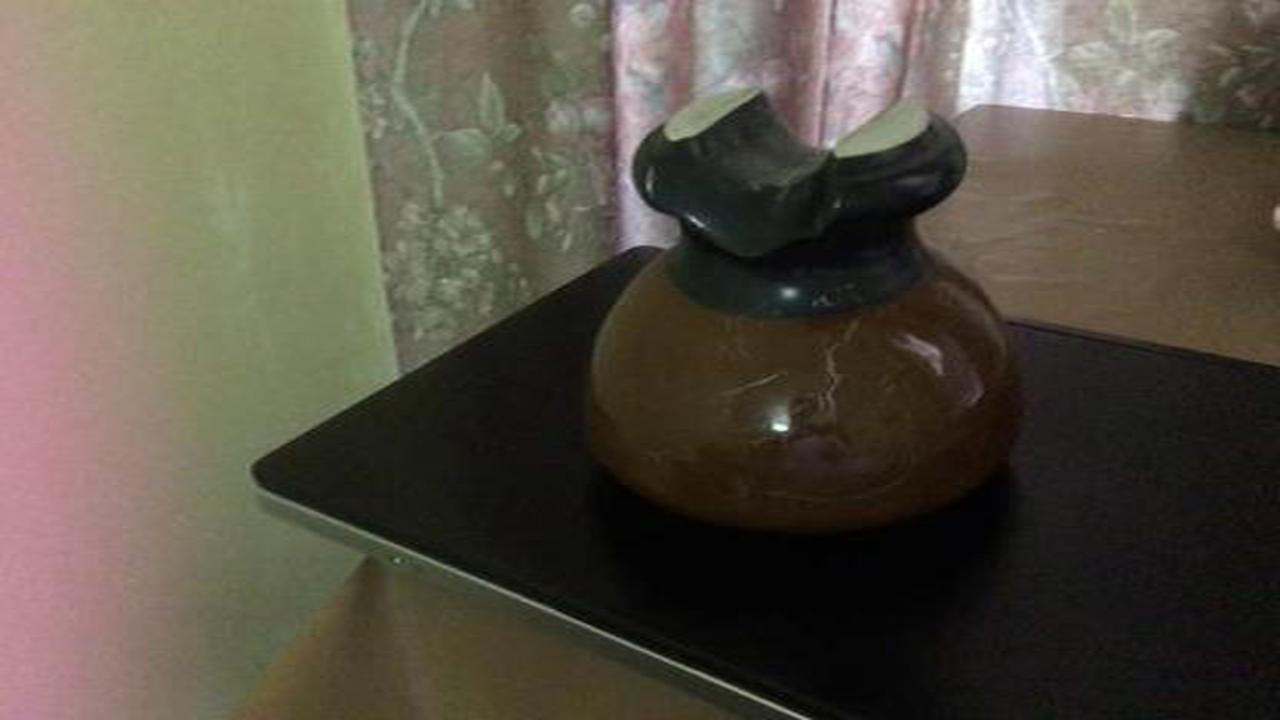insulator_pin: (561, 59, 1050, 556)
